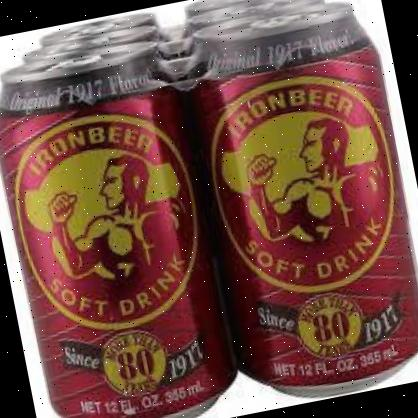can: (176, 0, 418, 414), (0, 33, 246, 418)
